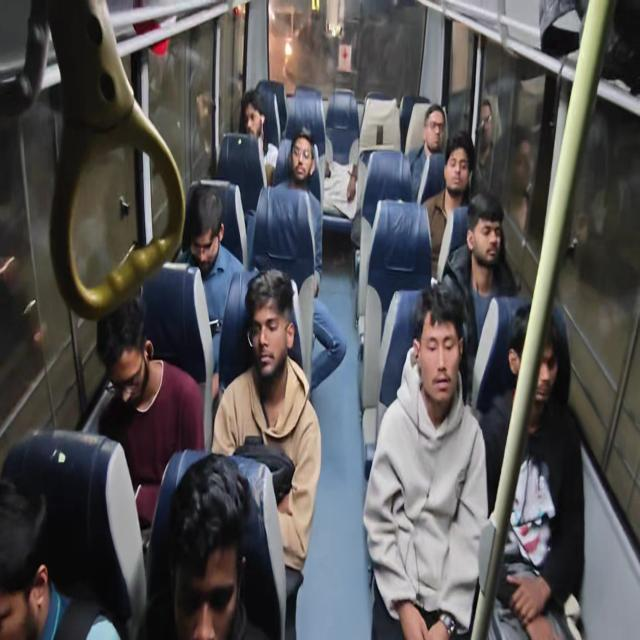person: (363, 281, 489, 638), (211, 267, 322, 638), (476, 302, 586, 639), (96, 293, 205, 536), (141, 451, 272, 639), (271, 126, 347, 395), (0, 477, 122, 639), (441, 190, 518, 402), (174, 183, 246, 391), (285, 85, 358, 219), (421, 130, 475, 282), (408, 102, 447, 204), (239, 89, 278, 187), (503, 125, 536, 235), (322, 136, 358, 219), (472, 95, 501, 192), (190, 85, 216, 180)
